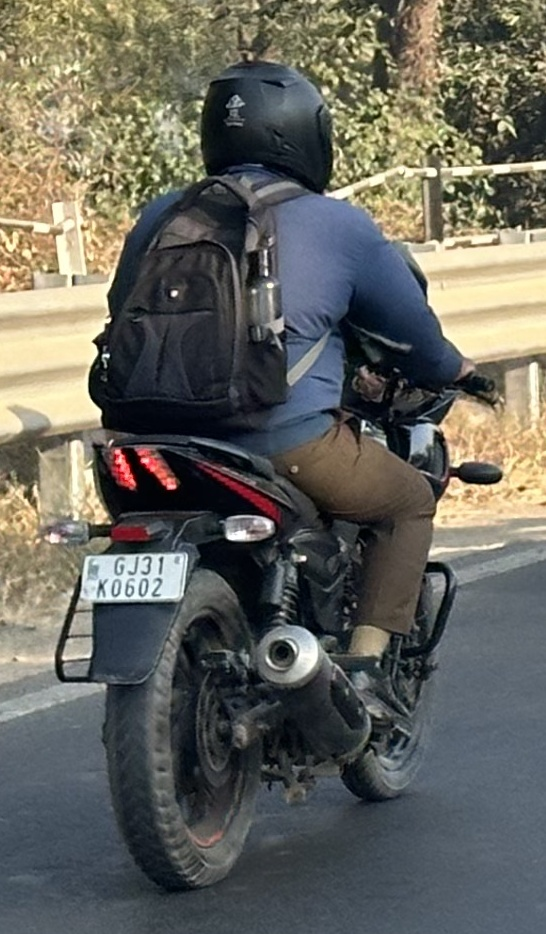BikeWithRider: (39, 54, 517, 899)
Helmet: (180, 54, 352, 202)
